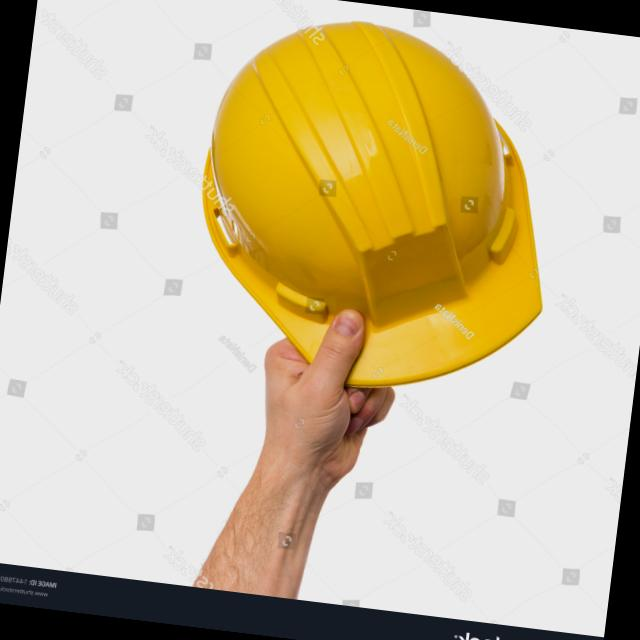helmet: (154, 16, 593, 390)
